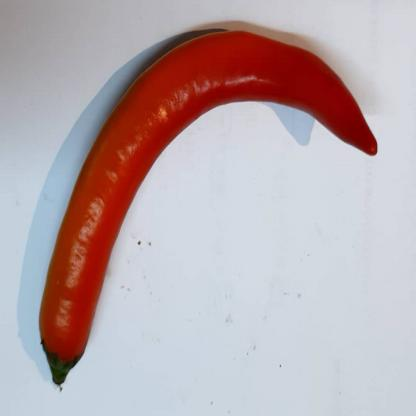chili: (38, 30, 376, 388)
